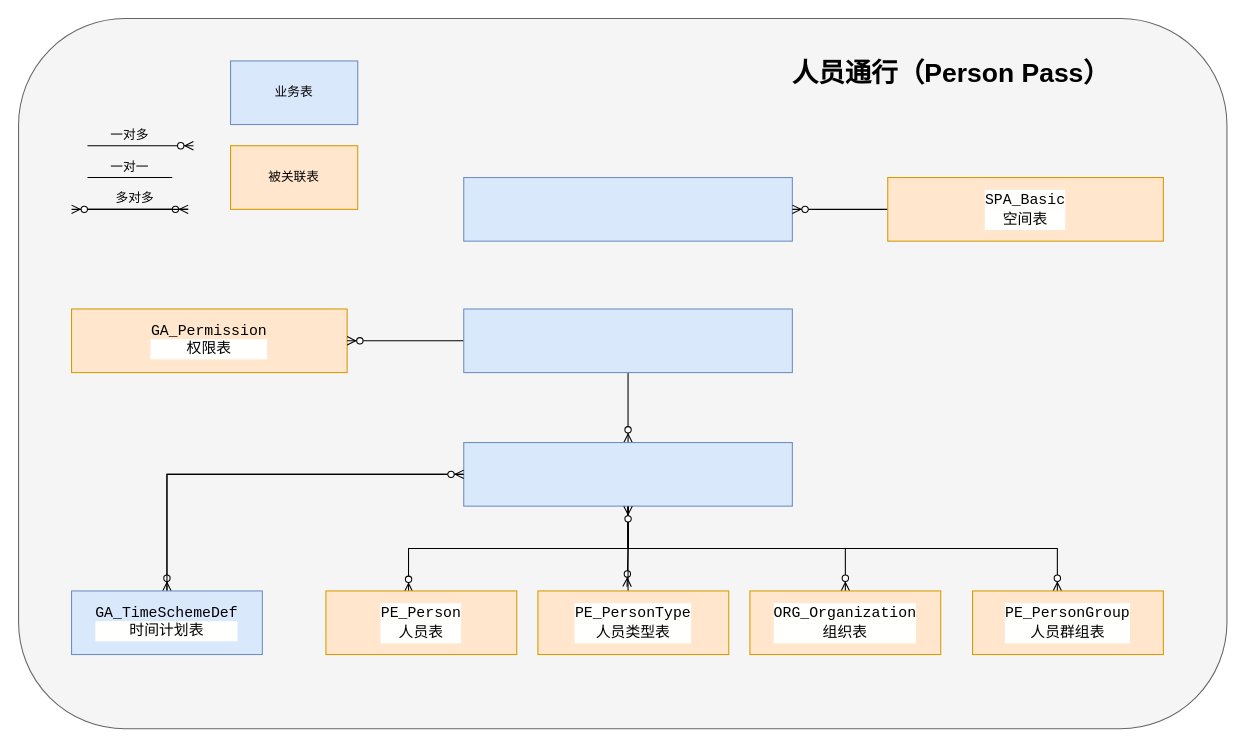
This 1245x747 diagram has some shape labels left out. Each missing label, with the centre of its shape:
SmartCampus__AccessGuard__CST 通行出入口: pixel 627 208
SmartCampus__PersonPermissionGrant__CST 人员权限授权关联表: pixel 627 473
SmartCampus__PersonPermissionGroup__CST 人员权限群组表: pixel 627 340
